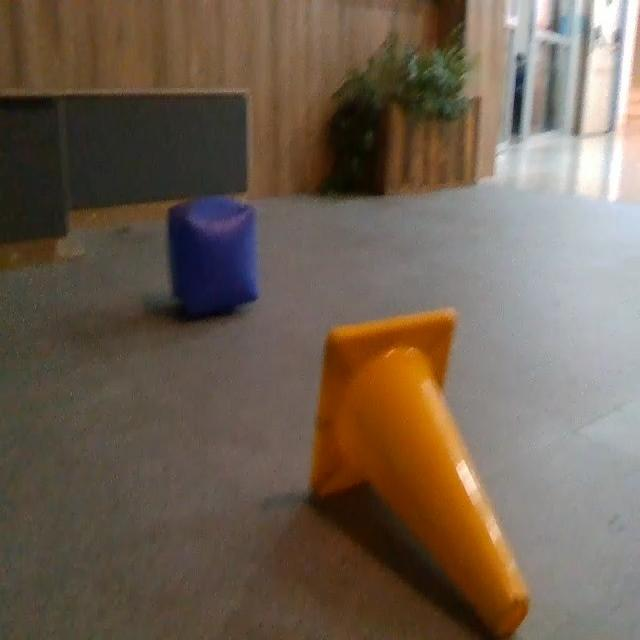cone: (309, 304, 530, 640)
cube: (166, 196, 262, 316)
